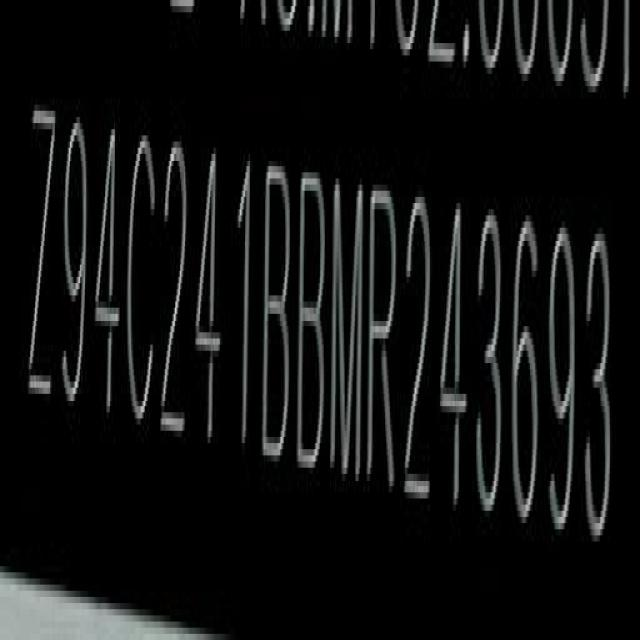1: (236, 150, 253, 458)
2: (406, 195, 434, 510), (162, 134, 190, 446)
3: (588, 240, 618, 550), (477, 211, 505, 521)
4: (442, 202, 473, 515), (196, 144, 225, 456), (95, 117, 123, 426)
6: (511, 221, 542, 534)
9: (549, 227, 579, 539), (59, 110, 88, 417)
B: (262, 153, 293, 470), (298, 164, 329, 478)
C: (128, 130, 160, 440)
M: (330, 178, 364, 499)
R: (366, 180, 397, 495)
Z: (25, 101, 57, 412)
